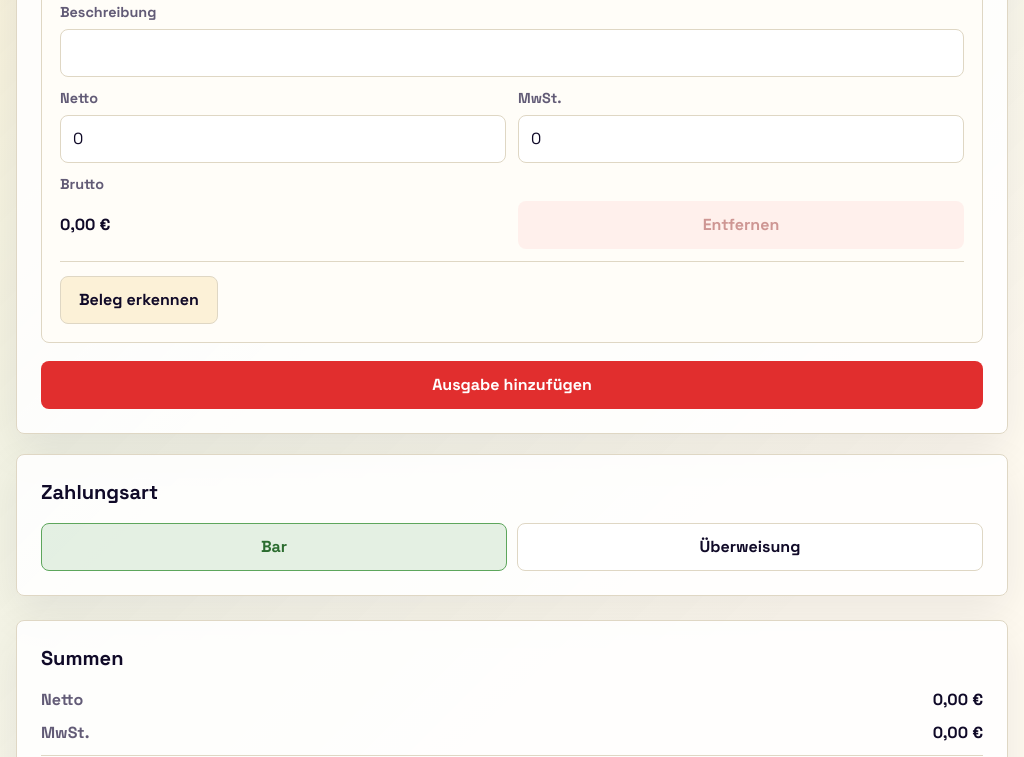
Test: App › adds an expense row
(page scrolled)
Click the button "Ausgabe hinzufügen" at (512, 385), box [41,361,983,409]
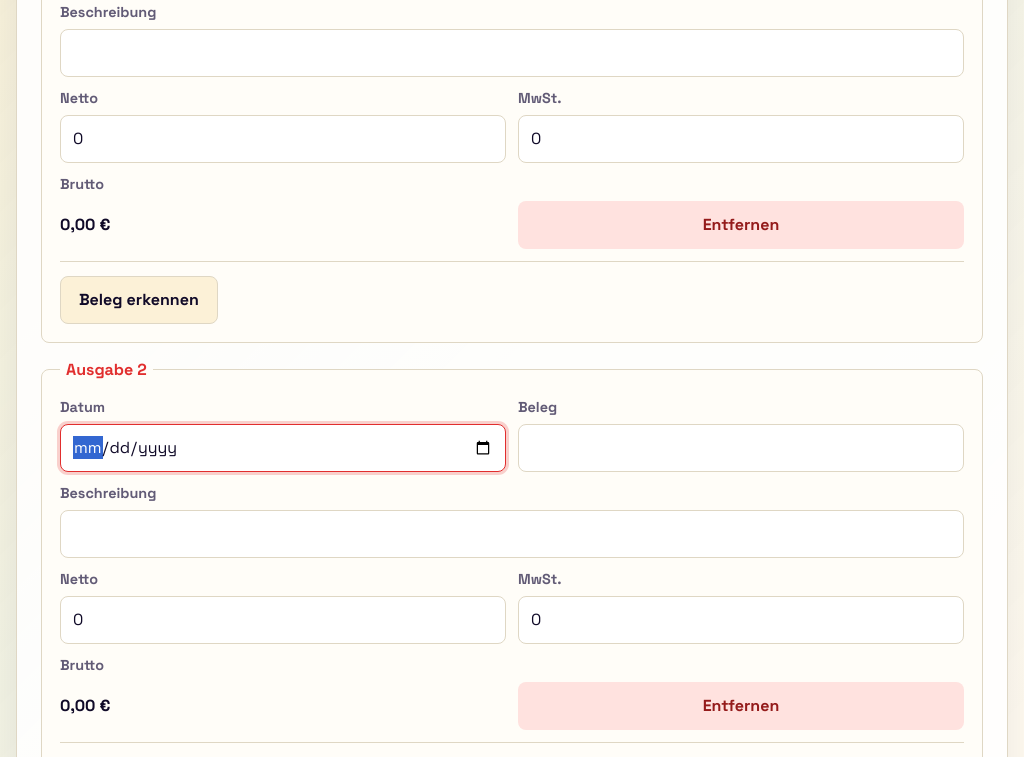
Expected: the text "Ausgabe 2" is shown, [60,359,153,380]
